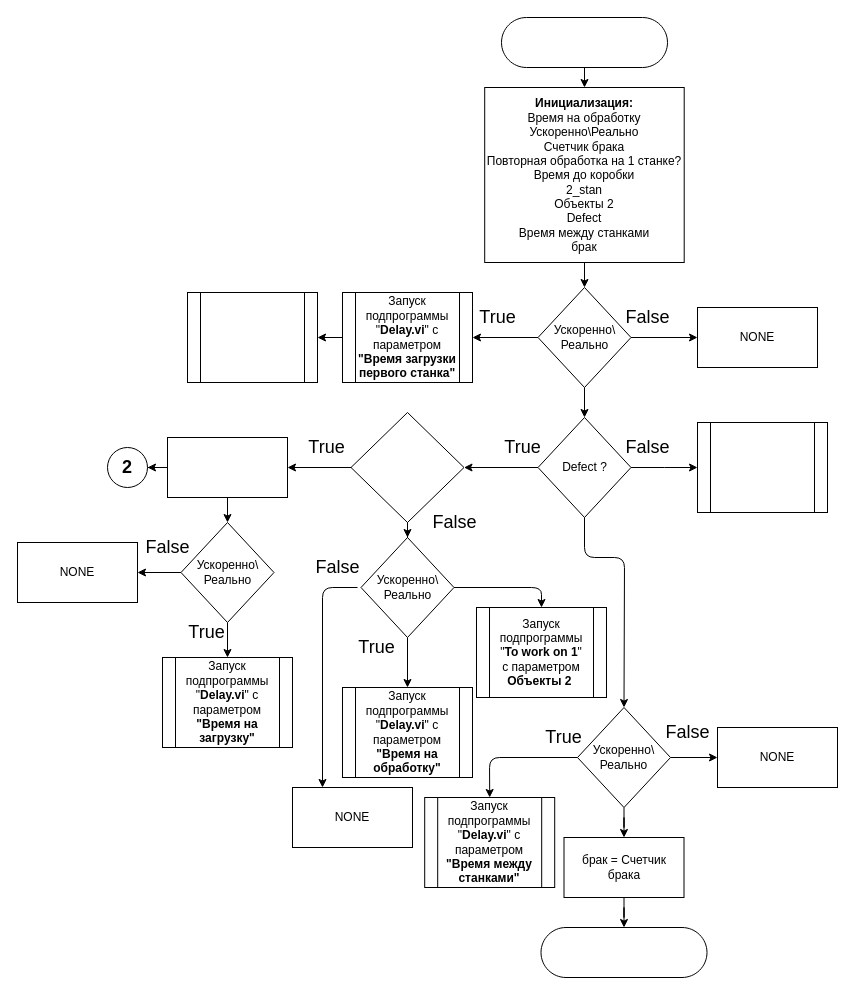
Image size: 855x995. Some labels were removed from this diagram. The shapes that lost their labels are listed below. From the top down, each one's box as (x1, y1, x2, y2) in pixels, then its label:
(500, 16, 668, 68): START
(186, 292, 318, 382): Запуск подпрограммы " Delay.vi " с параметром "Время на обработку"
(166, 436, 288, 498): Загрузка в очередь 2_stan элемента "START"
(350, 412, 464, 522): !Повторная обработка на 1 станке?
(696, 422, 828, 512): Запуск подпрограммы " Delay.vi " с параметром "Время до коробки"
(540, 926, 707, 978): END
